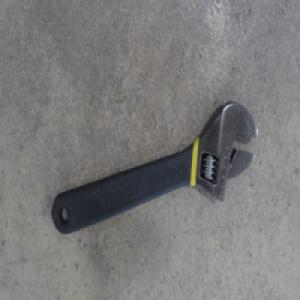AdjustableWrench: (51, 100, 257, 236)
